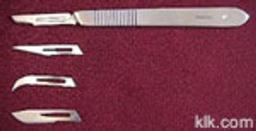scalpel: (12, 6, 250, 28)
